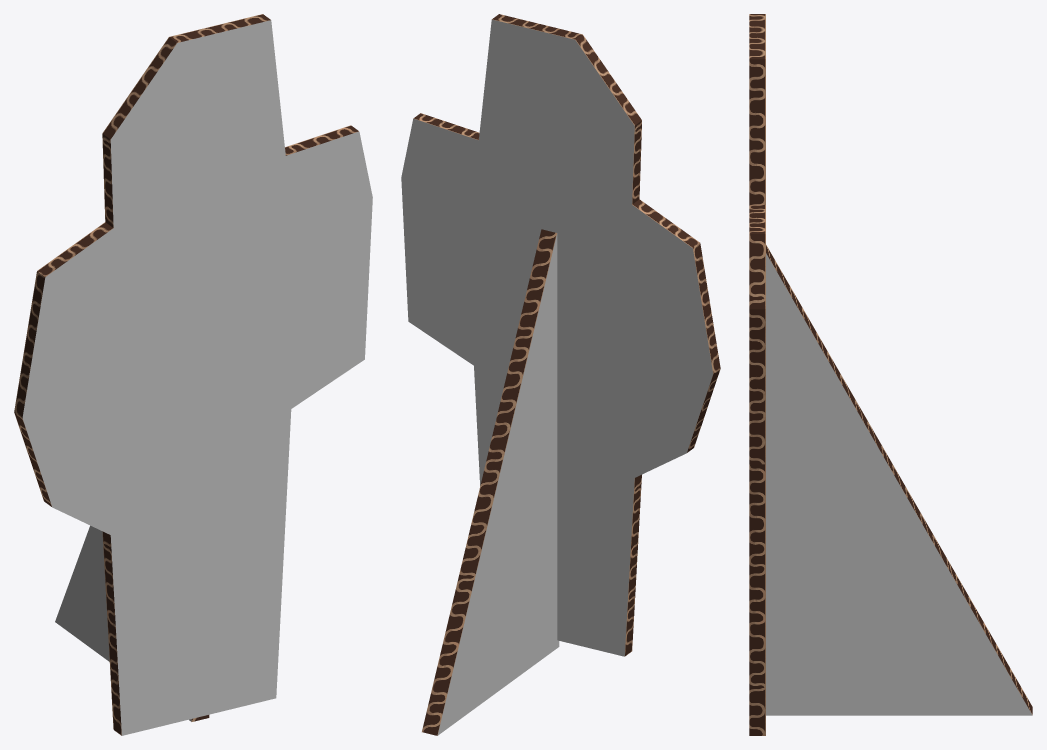
The model's file is Cactus_2.fbx.
3 renders of one model, left to right at view 1: azimuth 30°, elevation 25°; view 2: azimuth 150°, elevation 25°; view 3: azimuth 270°, elevation 25°, orthographic. The views are drawn at different scales.
Visible parts, largest first — view 1: Cactus 2_LOD0; view 2: Cactus 2_LOD0; view 3: Cactus 2_LOD0.
Part boxes in pixels (x1,y1,x2,y2): Cactus 2_LOD0: (14,14,372,735); Cactus 2_LOD0: (401,14,720,735); Cactus 2_LOD0: (749,14,1032,735).
Size of the model in its own units: 364 by 683 by 257.
